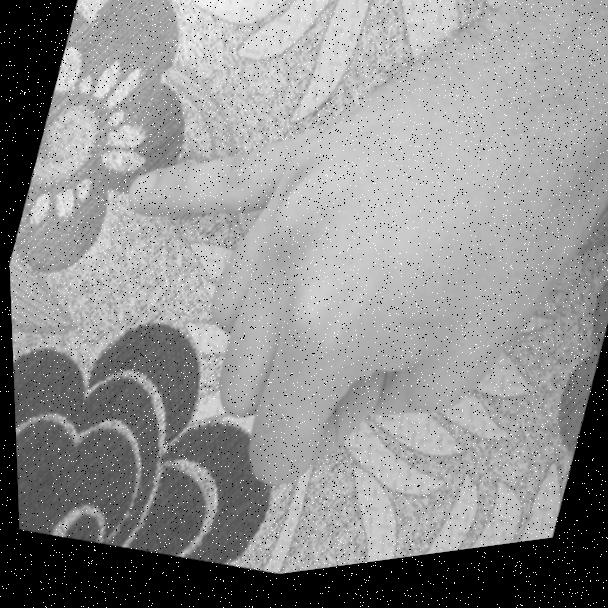five: (30, 0, 608, 602)
